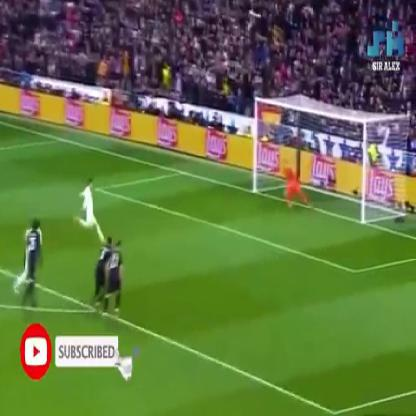penalty kick: (67, 94, 383, 271)
